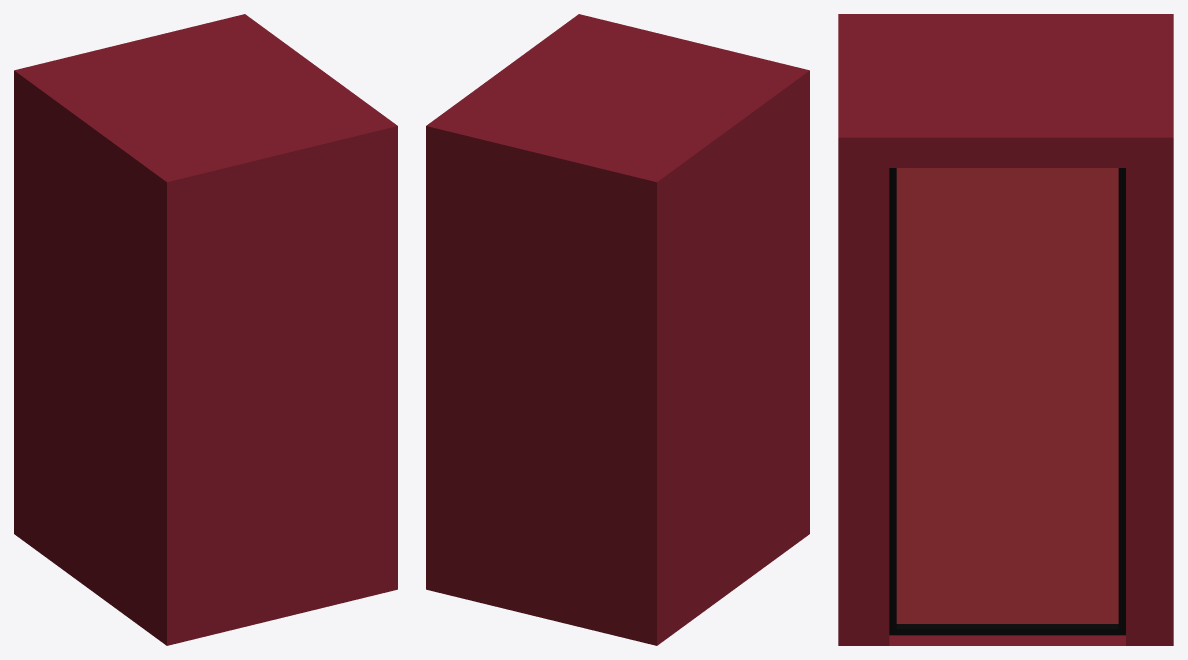
Rendered from puerta roja.fbx.
3 renders of one model, left to right at view 1: azimuth 30°, elevation 25°; view 2: azimuth 150°, elevation 25°; view 3: azimuth 270°, elevation 25°, orthographic. The views are drawn at different scales.
Visible parts, largest first — view 1: Cube; view 2: Cube; view 3: Cube.
Part boxes in pixels (x1,y1,x2,y2): Cube: (14,14,397,645); Cube: (426,14,809,645); Cube: (838,14,1173,645).
Size of the model in its own units: 200 by 384 by 229.
